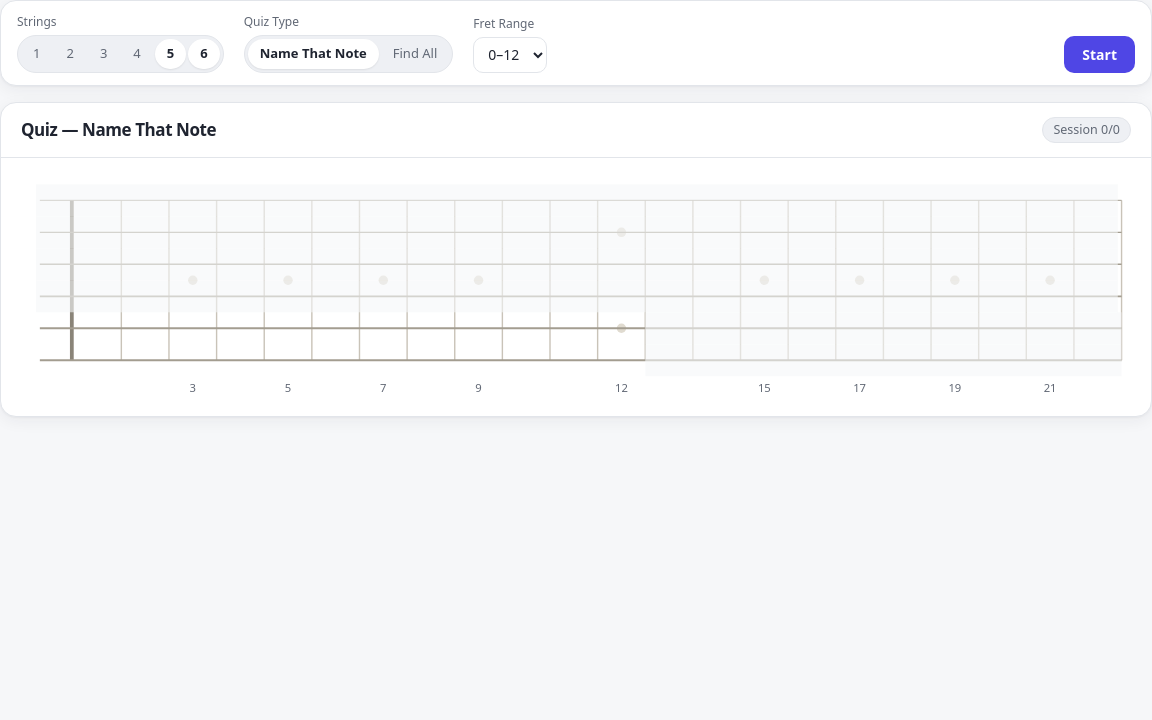
Scenario: Quiz — 이 음은? › marks a correct answer and counts the session
Click the button "Start": {"x": 1100, "y": 54} [1064,36,1135,72]
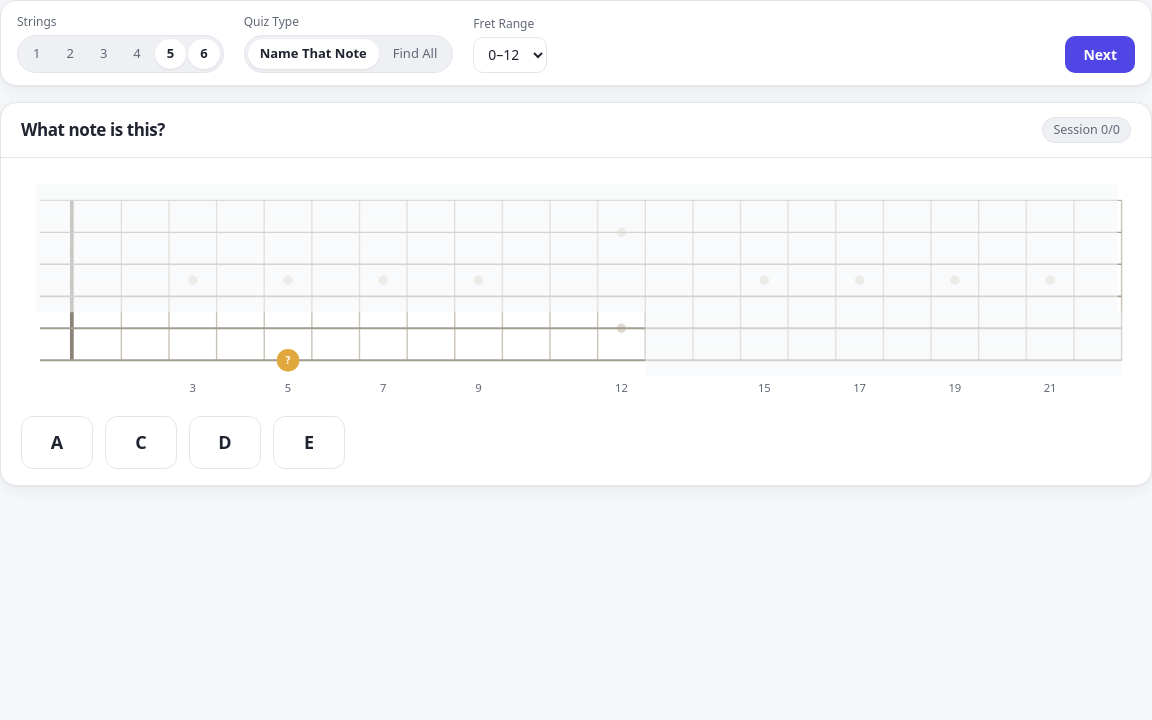
Click the button "A": {"x": 57, "y": 442} [21,416,93,469]
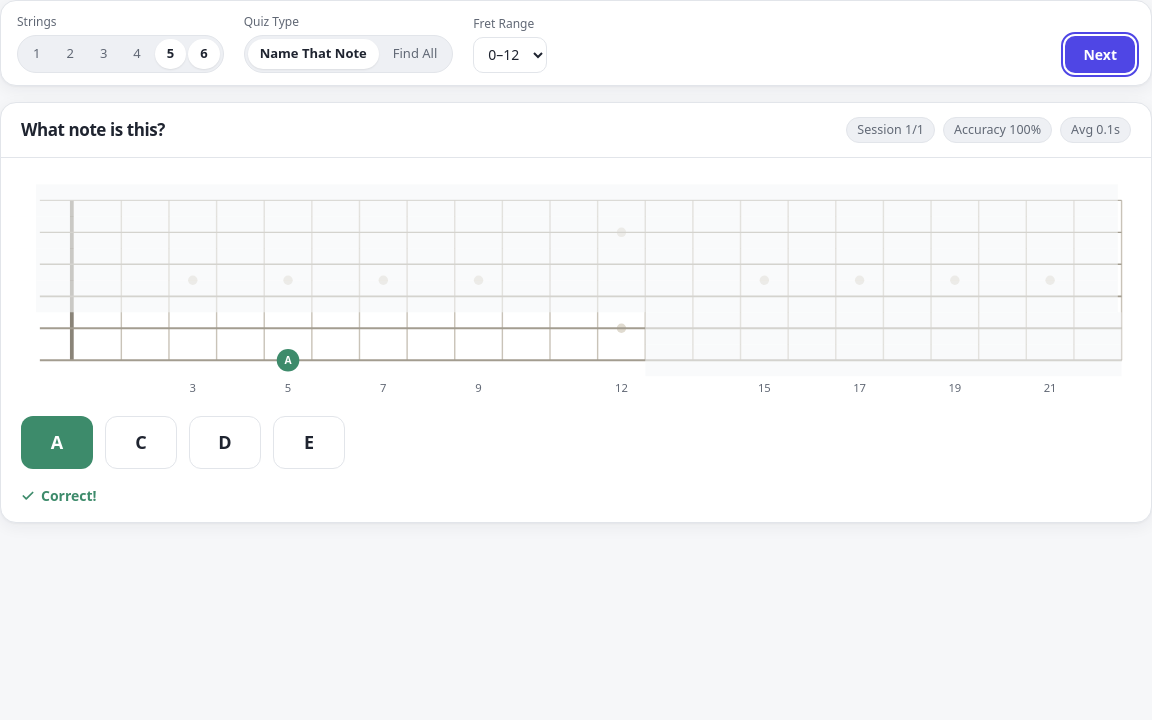
Result: the text "Correct!" is shown at [21,486,97,505]
Result: the text "Session 1/1" is shown at [846,116,935,143]
